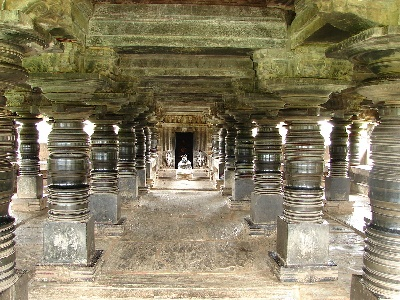mandapa: (12, 12, 398, 278)
